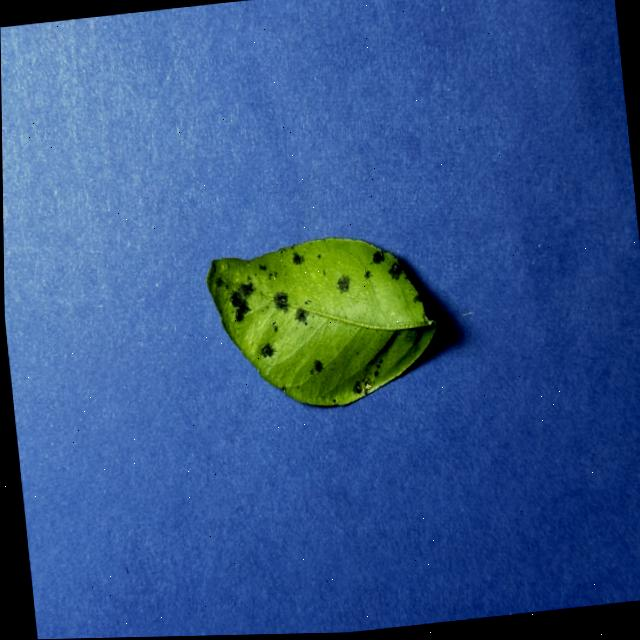sooty_mold: (206, 238, 434, 405)
